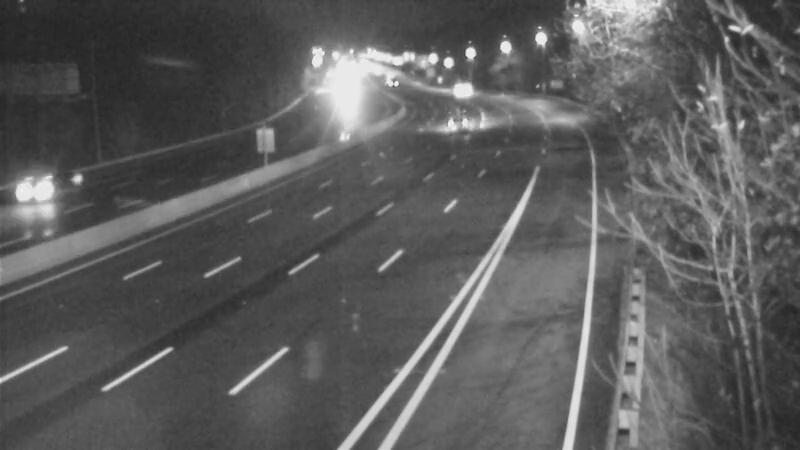vehicle: (12, 149, 92, 229), (366, 54, 416, 104), (434, 69, 484, 119), (433, 96, 483, 146)
